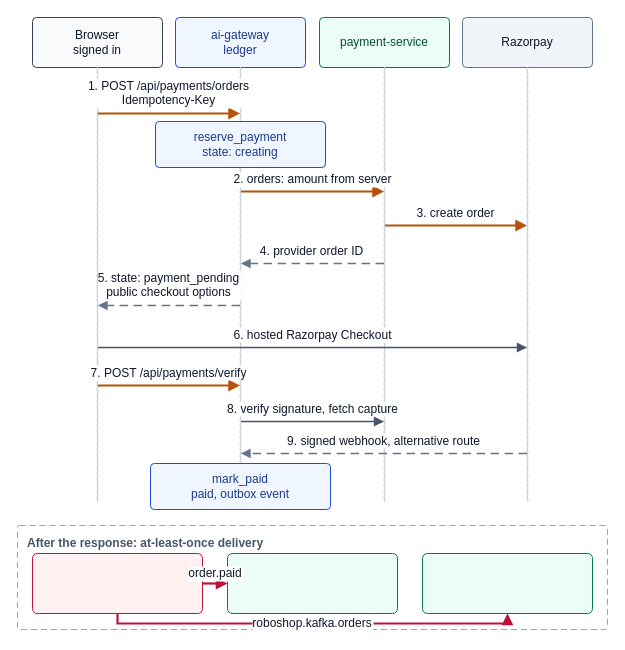
This 625x650 diagram has some shape labels left out. The centre of each missing label's shape, as x and y in pixels:
"kafka-bridge then Kafka" goes at point (507, 583).
"RabbitMQ roboshop.orders" goes at point (117, 583).
"shipping-service PostgreSQL request" goes at point (312, 583).
